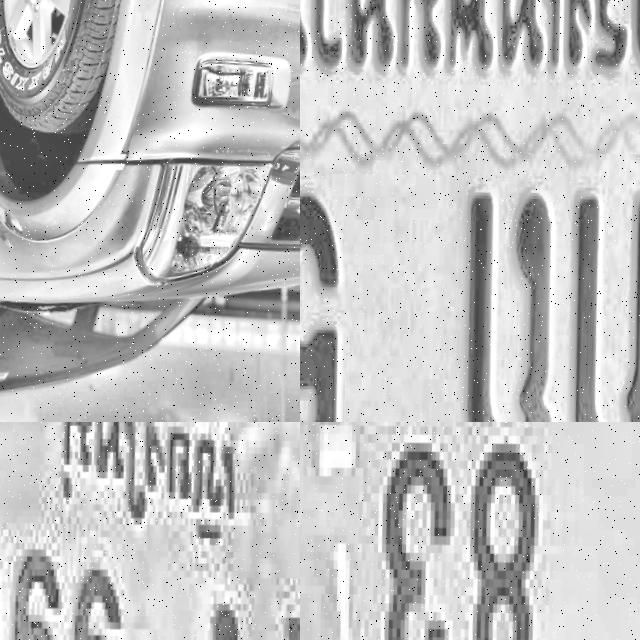license-plate: (300, 0, 640, 422), (300, 422, 640, 640), (0, 422, 300, 640)
